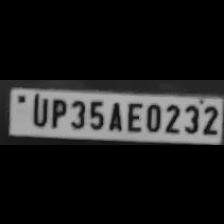0: (142, 100, 162, 132)
2: (199, 99, 219, 135), (162, 100, 180, 134)
3: (180, 100, 200, 134), (66, 96, 86, 128)
5: (86, 96, 106, 130)
A: (105, 97, 123, 130)
E: (124, 100, 142, 132)
P: (47, 95, 67, 127)
U: (28, 93, 48, 126)
